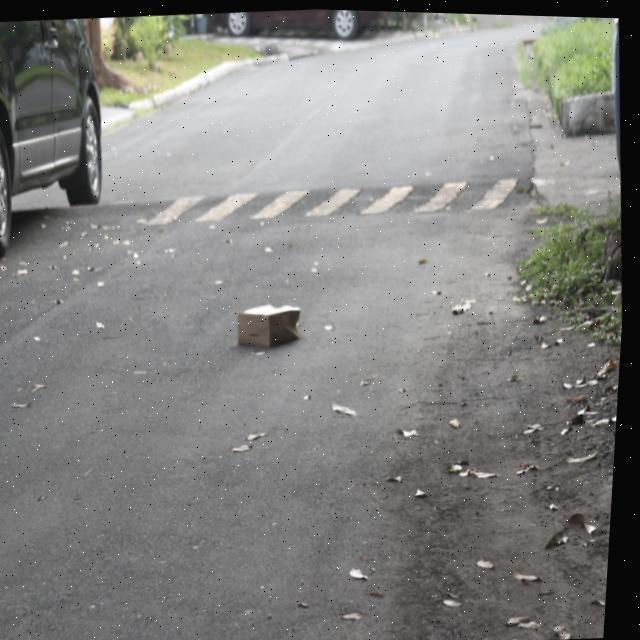Paper_Bag: (241, 298, 308, 351)
